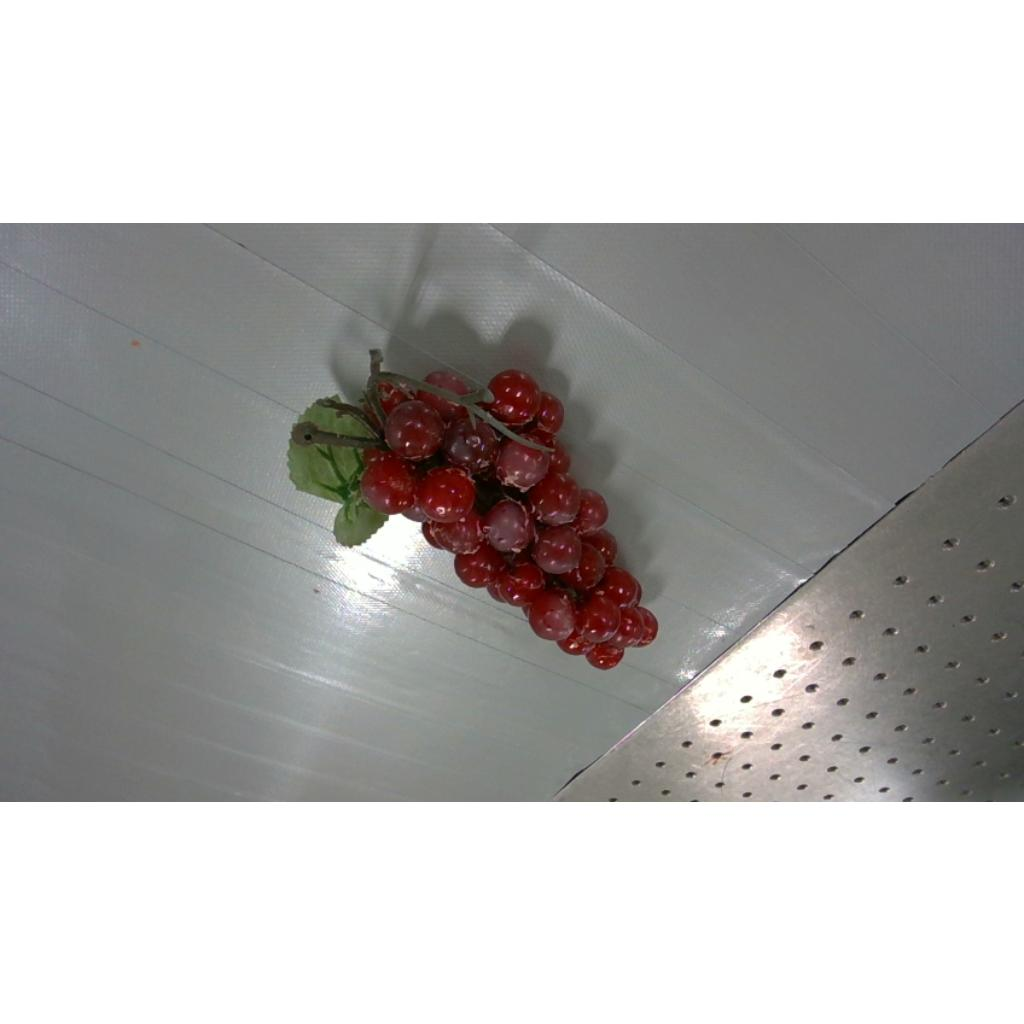grape: (292, 350, 658, 668)
